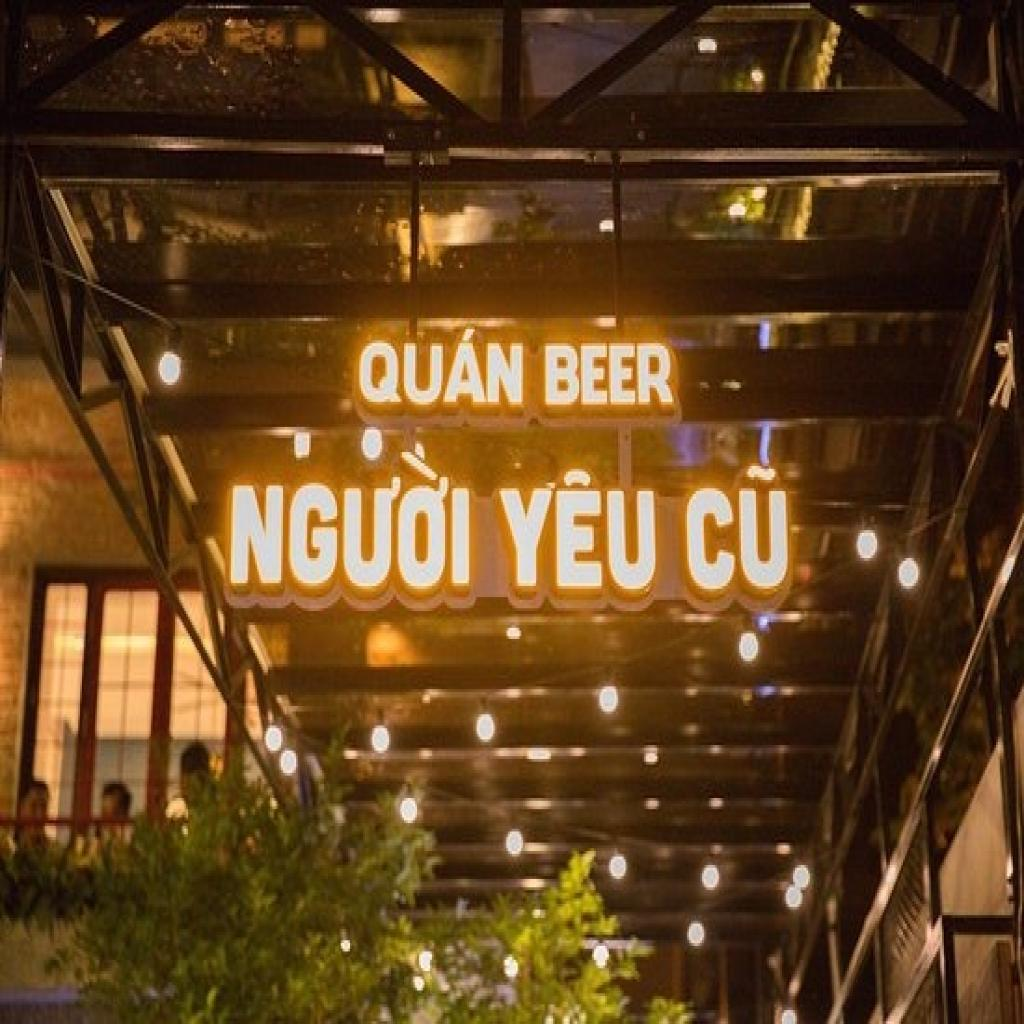text: (222, 444, 480, 611), (493, 460, 661, 603), (350, 321, 531, 427), (538, 332, 685, 427)
